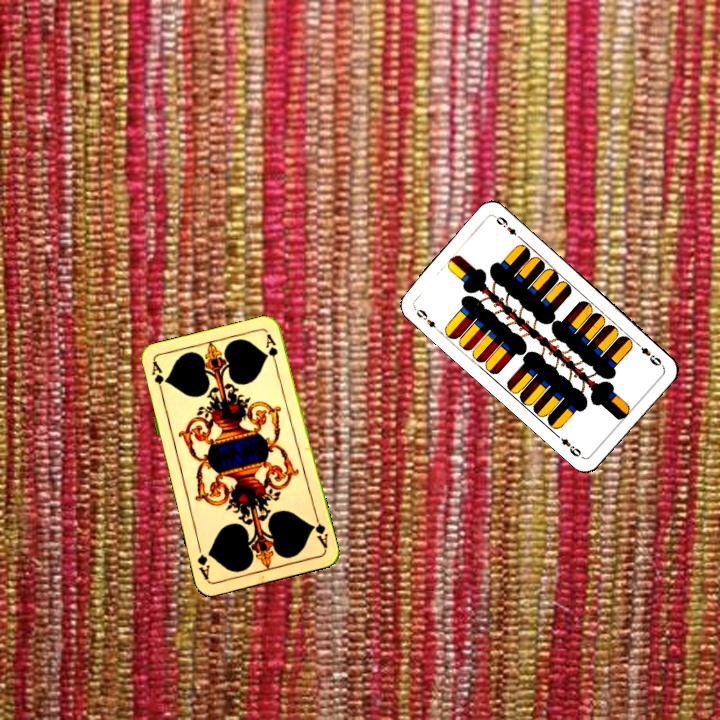E9: (632, 338, 665, 369), (410, 304, 443, 335)
GA: (308, 512, 330, 552), (147, 358, 167, 398)
